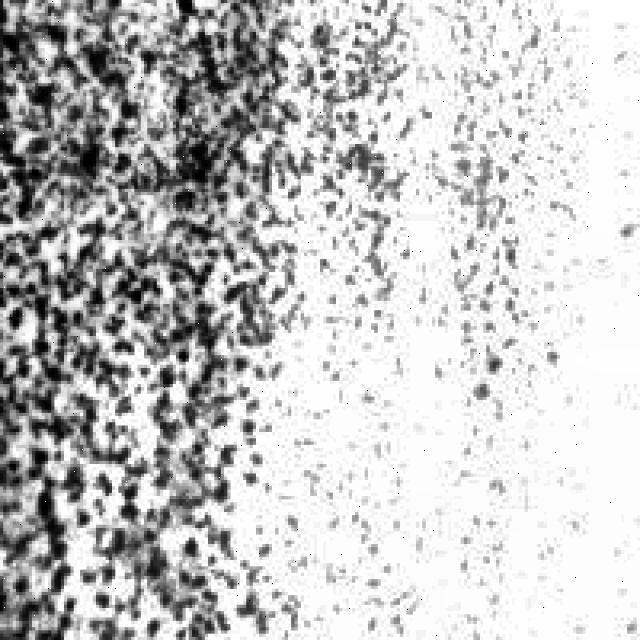Rolled_in_Scale: (7, 0, 314, 618), (320, 0, 557, 365)
